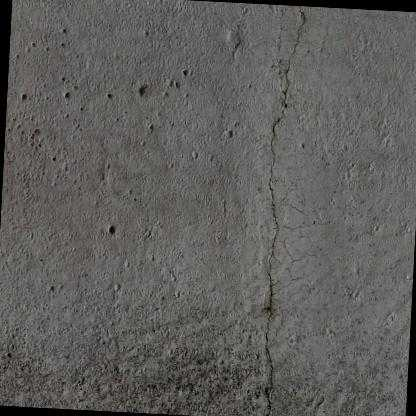crack: (263, 3, 307, 416)
